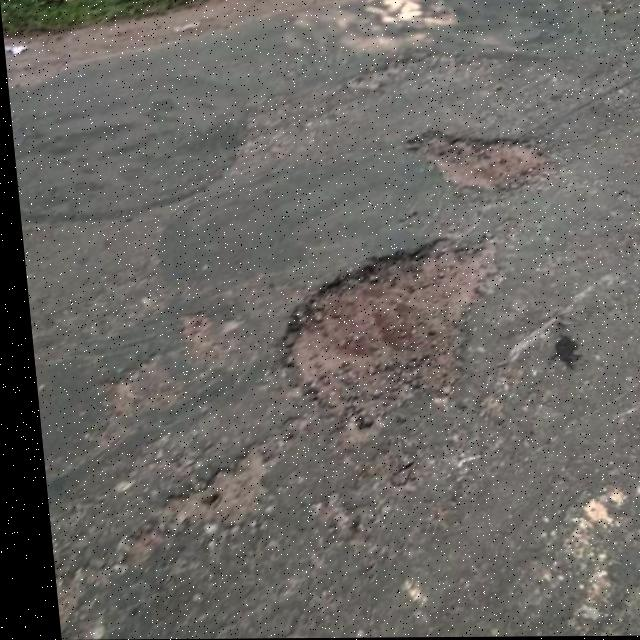Pothole: (270, 232, 513, 426), (406, 126, 553, 191)
